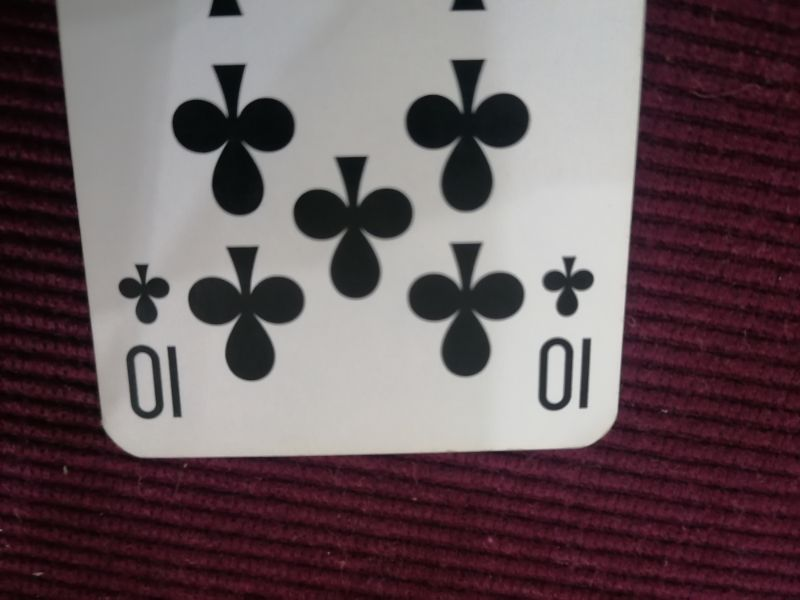Tc: (114, 258, 189, 422), (534, 248, 600, 414)
